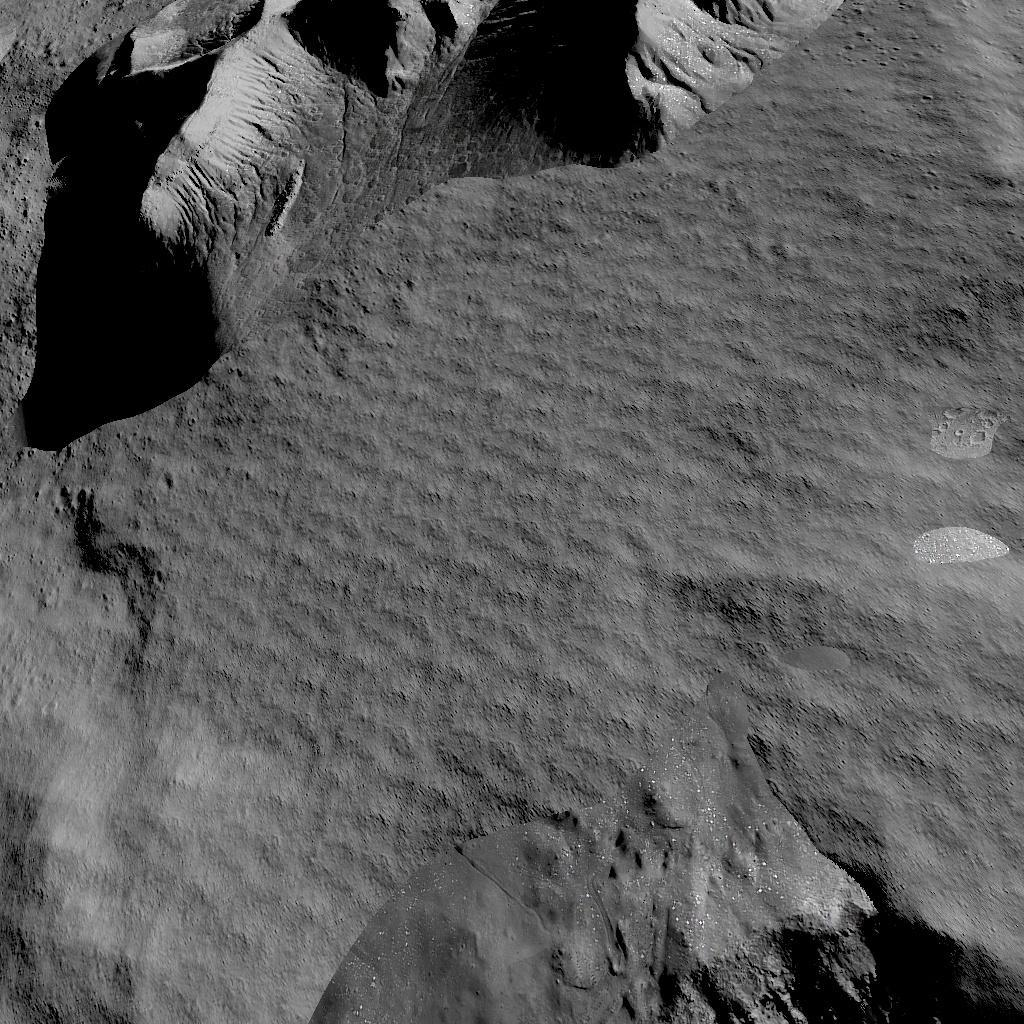Boulders: (18, 0, 846, 453)
Crater: (311, 802, 1024, 1024)
Plan surface: (0, 465, 1024, 790), (861, 0, 1024, 455), (0, 802, 298, 1024)
